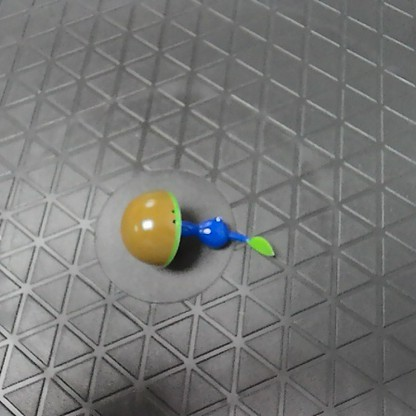leafairy: (116, 186, 277, 270)
